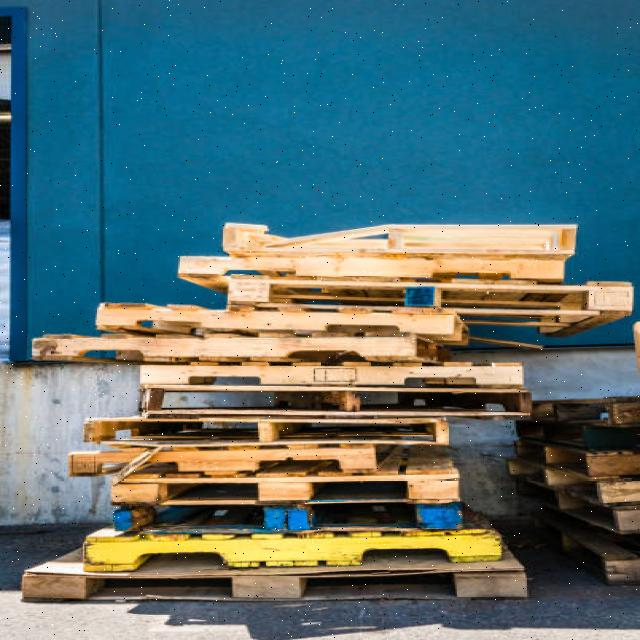Wooden-Pallets: (70, 292, 460, 342), (164, 244, 582, 276)
